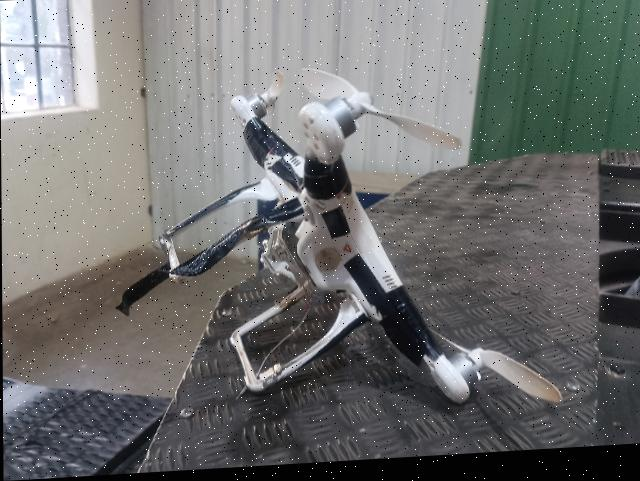drone: (156, 67, 505, 429)
